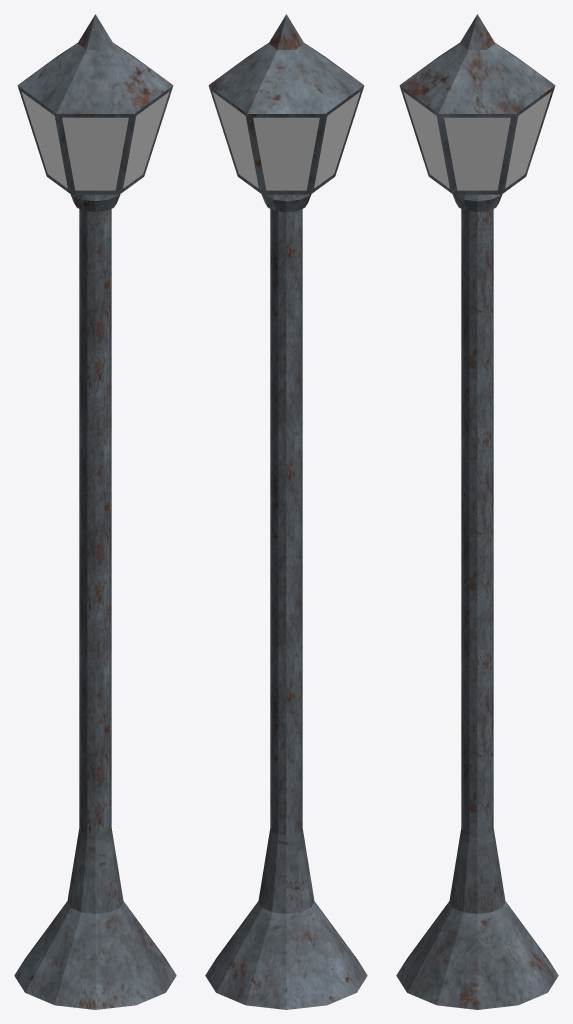
The model's file is farolalinda2.glb.
3 renders of one model, left to right at view 1: azimuth 30°, elevation 25°; view 2: azimuth 150°, elevation 25°; view 3: azimuth 270°, elevation 25°, orthographic.
Parts seen in each view (by area): view 1: Cylinder1, Cylinder3, Cylinder, Cylinder2; view 2: Cylinder1, Cylinder3, Cylinder, Cylinder2; view 3: Cylinder1, Cylinder3, Cylinder, Cylinder2.
Part boxes in pixels (x1,y1,x2,y2): Cylinder1: (79,209,111,835); Cylinder3: (17,14,173,194); Cylinder: (14,828,176,1009); Cylinder2: (70,194,120,212); Cylinder1: (270,209,302,835); Cylinder3: (208,14,364,194); Cylinder: (205,828,367,1009); Cylinder2: (261,194,311,212); Cylinder1: (461,209,493,835); Cylinder3: (399,14,555,194); Cylinder: (396,828,558,1009); Cylinder2: (452,194,502,212).
Bounding box in the file's own units: 0.7633 × 4.98 × 0.7633.
Materials: 2 (1 with a texture image).
